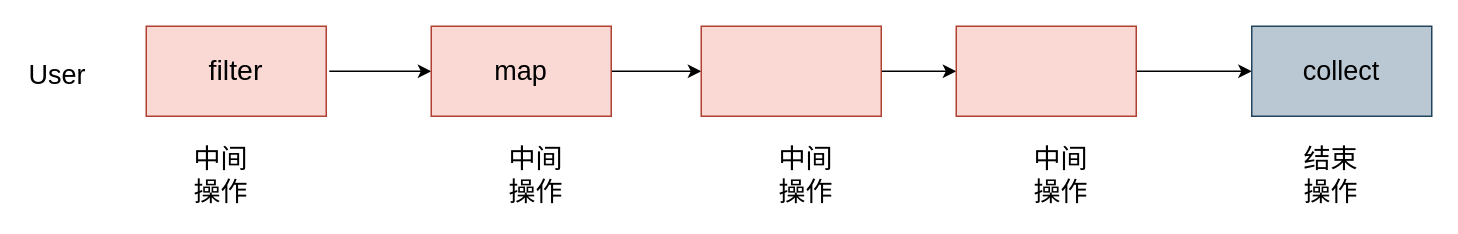
Image size: 1458x234. Some labels were removed from this diagram. Each missing label, with the box of its shape:
limit: (700, 25, 881, 116)
sort: (955, 25, 1136, 116)
